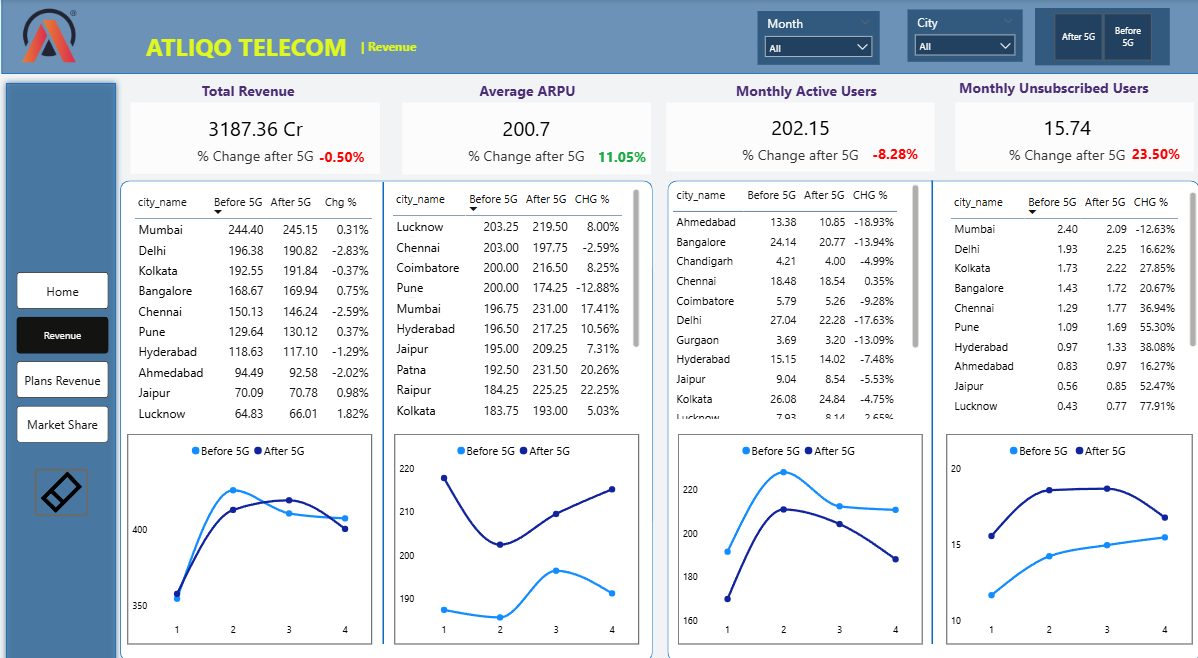

This screenshot's page, from the dashboard's own definition file:
{"tool":"powerbi","page":{"name":"Revenue","canvas":[1600,900],"ordinal":1},"visuals":[{"type":"shape","box":[884.8,240.6,705.8,638.2],"z":0},{"type":"shape","box":[158.3,240.9,706.3,637.8],"z":1000},{"type":"shape","box":[0,103.4,161.7,795.3],"z":2000},{"type":"shape","box":[2,0,1598.6,99.4],"z":3000},{"type":"card","fields":{"Values":["Key Measures.AVG ARPU"]},"box":[533.1,136.3,329.9,95.6],"z":4000},{"type":"card","fields":{"Values":["Key Measures.Monthly Unsubscribed User(MUU)"]},"box":[1266.5,137.2,316.1,91.5],"z":5000},{"type":"slicer","fields":{"Values":["dim_date.before/after_5g"]},"box":[1371.9,11.9,178.9,76.2],"z":6000},{"type":"slicer","fields":{"Values":["dim_date.month_name"]},"box":[1004.1,15.9,161.7,71.6],"z":7000},{"type":"slicer","fields":{"Values":["dim_cities.city_name"]},"box":[1202.9,13.9,152.4,69.6],"z":8000},{"type":"pivotTable","fields":{"Rows":["dim_cities.city_name"],"Values":["Key Measures.Revenue Before 5G","Key Measures.Revenue After 5G","Key Measures.Revenue Diff"]},"box":[172.4,250.4,382.7,311.8],"z":9000},{"type":"pivotTable","fields":{"Rows":["dim_cities.city_name"],"Values":["Key Measures.Before 5G Arpu","Key Measures.After 5G Arpu","Key Measures.CHG %"]},"box":[515,245.7,337.8,321.3],"z":10000},{"type":"card","fields":{"Values":["Key Measures.Monthlyy Active users"]},"box":[882.8,137.2,355.9,91.5],"z":11000},{"type":"pivotTable","fields":{"Rows":["dim_cities.city_name"],"Values":["Key Measures.Before 5G AU","Key Measures.After 5G AU","Key Measures.CHG % AU"]},"box":[886.8,240.6,336,320.1],"z":12000},{"type":"pivotTable","fields":{"Rows":["dim_cities.city_name"],"Values":["Key Measures.Before 5G (UU)","Key Measures.After 5G (UU)","Key Measures.CHG % (UU)"]},"box":[1254.6,250.5,336,312.2],"z":13000},{"type":"lineChart","fields":{"Category":["dim_date.time_period"],"Y":["Key Measures.Before 5G","Key Measures.After 5G"]},"box":[169,576.6,324.1,278.4],"z":14000},{"type":"lineChart","fields":{"Category":["dim_date.time_period"],"Y":["Key Measures.Before 5G Arpu","Key Measures.After 5G Arpu"]},"box":[522.9,576.6,324.1,278.4],"z":15000},{"type":"lineChart","fields":{"Category":["dim_date.time_period"],"Y":["Key Measures.Before 5G AU","Key Measures.After 5G AU"]},"box":[898.7,576.6,324.1,278.4],"z":16000},{"type":"lineChart","fields":{"Category":["dim_date.time_period"],"Y":["Key Measures.Before 5G (UU)","Key Measures.After 5G (UU)"]},"box":[1254.6,576.6,326.1,278.4],"z":17000},{"type":"image","box":[9.9,5.3,111.3,83.5],"z":18000},{"type":"pageNavigator","box":[22.5,361.9,122.6,228.7],"z":19000},{"type":"card","fields":{"Values":["Key Measures.TR Scorecard"]},"box":[172.4,137,330.7,94.5],"z":20000},{"type":"multiRowCard","fields":{"Values":["Key Measures.% Change After 5G"]},"box":[418.1,191.3,94.5,49.6],"z":21000},{"type":"multiRowCard","fields":{"Values":["Key Measures.CHG % ARPU"]},"box":[786.5,191.2,95.6,35.9],"z":22000},{"type":"multiRowCard","fields":{"Values":["Key Measures.CHG % AU"]},"box":[1151.2,186.9,103.4,57.7],"z":23000},{"type":"multiRowCard","fields":{"Values":["Key Measures.CHG % (UU)"]},"box":[1495.2,186.9,95.4,53.7],"z":24000},{"type":"textbox","box":[262.5,103.4,147.1,55.7],"z":25000},{"type":"textbox","box":[630.3,103.4,147.1,55.7],"z":26000},{"type":"textbox","box":[948.4,103.4,240.6,55.7],"z":27000},{"type":"textbox","box":[1242.7,99.4,308.2,57.7],"z":28000},{"type":"shape","box":[483.1,242.6,49.7,612.4],"z":29000},{"type":"shape","box":[1212.8,240.6,45.7,614.4],"z":30000},{"type":"actionButton","box":[45.7,622.3,71.6,63.6],"z":31000},{"type":"textbox","box":[169,35.8,324.1,53.7],"z":32000},{"type":"textbox","box":[473.2,45.7,99.4,37.8],"z":33000}]}

Visuals, with their boxes on the page's 1600x900 design canvas (x1, y1, x2, y2). These are canvas units, not pixel positions in the 1198x658 screenshot, which may show the page scaled, cropped or inside an application window:
shape: left=885, top=241, right=1591, bottom=879
shape: left=158, top=241, right=865, bottom=879
shape: left=0, top=103, right=162, bottom=899
shape: left=2, top=0, right=1601, bottom=99
card - Key Measures.AVG ARPU: left=533, top=136, right=863, bottom=232
card - Key Measures.Monthly Unsubscribed User(MUU): left=1266, top=137, right=1583, bottom=229
slicer - dim_date.before/after_5g: left=1372, top=12, right=1551, bottom=88
slicer - dim_date.month_name: left=1004, top=16, right=1166, bottom=88
slicer - dim_cities.city_name: left=1203, top=14, right=1355, bottom=84
pivotTable - dim_cities.city_name x Key Measures.Revenue Before 5G: left=172, top=250, right=555, bottom=562
pivotTable - dim_cities.city_name x Key Measures.Before 5G Arpu: left=515, top=246, right=853, bottom=567
card - Key Measures.Monthlyy Active users: left=883, top=137, right=1239, bottom=229
pivotTable - dim_cities.city_name x Key Measures.Before 5G AU: left=887, top=241, right=1223, bottom=561
pivotTable - dim_cities.city_name x Key Measures.Before 5G (UU): left=1255, top=250, right=1591, bottom=563
lineChart - dim_date.time_period x Key Measures.Before 5G: left=169, top=577, right=493, bottom=855
lineChart - dim_date.time_period x Key Measures.Before 5G Arpu: left=523, top=577, right=847, bottom=855
lineChart - dim_date.time_period x Key Measures.Before 5G AU: left=899, top=577, right=1223, bottom=855
lineChart - dim_date.time_period x Key Measures.Before 5G (UU): left=1255, top=577, right=1581, bottom=855
image: left=10, top=5, right=121, bottom=89
pageNavigator: left=22, top=362, right=145, bottom=591
card - Key Measures.TR Scorecard: left=172, top=137, right=503, bottom=232
multiRowCard - Key Measures.% Change After 5G: left=418, top=191, right=513, bottom=241
multiRowCard - Key Measures.CHG % ARPU: left=786, top=191, right=882, bottom=227
multiRowCard - Key Measures.CHG % AU: left=1151, top=187, right=1255, bottom=245
multiRowCard - Key Measures.CHG % (UU): left=1495, top=187, right=1591, bottom=241
textbox: left=262, top=103, right=410, bottom=159
textbox: left=630, top=103, right=777, bottom=159
textbox: left=948, top=103, right=1189, bottom=159
textbox: left=1243, top=99, right=1551, bottom=157
shape: left=483, top=243, right=533, bottom=855
shape: left=1213, top=241, right=1258, bottom=855
actionButton: left=46, top=622, right=117, bottom=686
textbox: left=169, top=36, right=493, bottom=90
textbox: left=473, top=46, right=573, bottom=84
